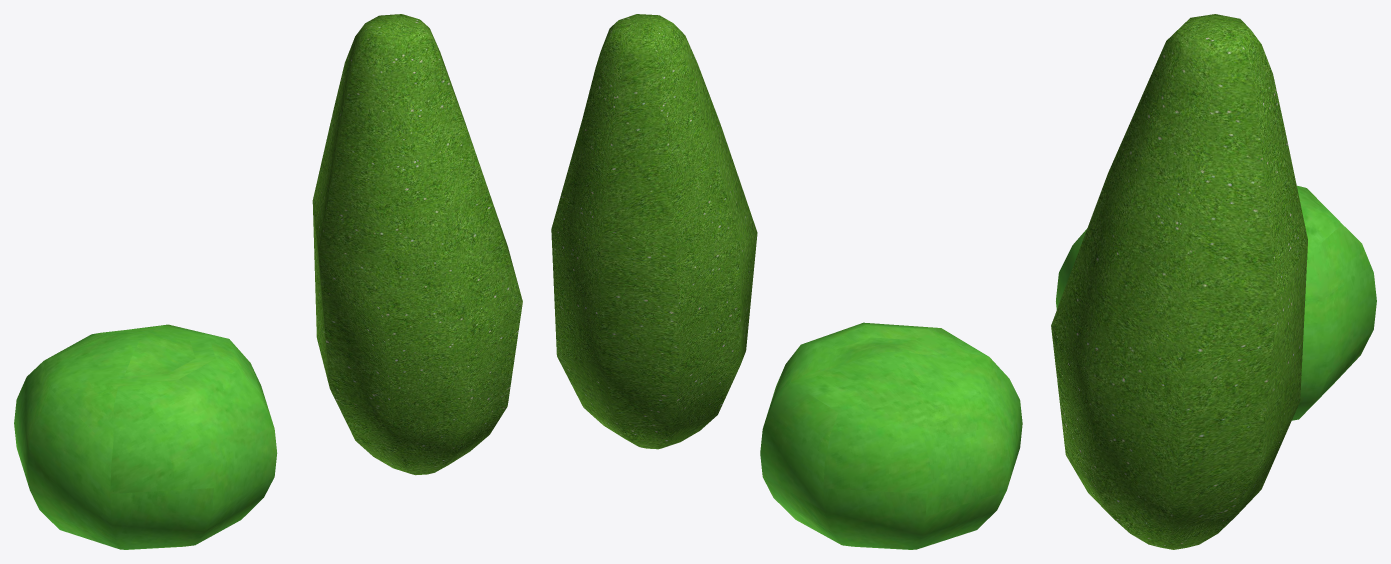
Rendered from Bush(T).fbx.
3 renders of one model, left to right at view 1: azimuth 30°, elevation 25°; view 2: azimuth 150°, elevation 25°; view 3: azimuth 270°, elevation 25°, orthographic. The views are drawn at different scales.
Visible parts, largest first — view 1: Bush Long, Bush Short; view 2: Bush Long, Bush Short; view 3: Bush Long, Bush Short.
Boxes of the visible parts, bbox=[...] form: Bush Long: bbox=[312, 14, 522, 475]; Bush Short: bbox=[14, 324, 277, 549]; Bush Long: bbox=[551, 14, 757, 449]; Bush Short: bbox=[760, 322, 1022, 549]; Bush Long: bbox=[1051, 14, 1307, 549]; Bush Short: bbox=[1056, 185, 1376, 420].
Bounding box in the file's own units: 537 × 493 × 275.
